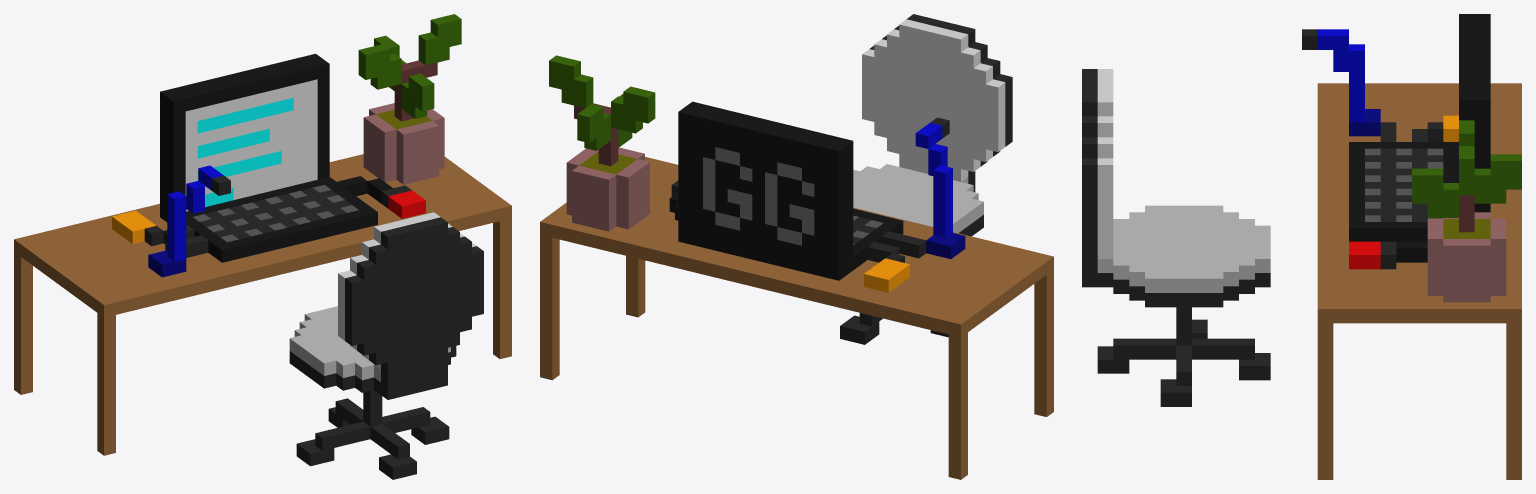
The picture shows the model from 3 angles, left to right: view 1: azimuth 30°, elevation 25°; view 2: azimuth 150°, elevation 25°; view 3: azimuth 270°, elevation 25°; orthographic projection. The views are drawn at different scales.
Parts seen in each view (by area): view 1: untitled.002; view 2: untitled.002; view 3: untitled.002.
Boxes of the visible parts, x1,y1,x2,y2 form: untitled.002: (14, 14, 511, 479); untitled.002: (540, 14, 1053, 479); untitled.002: (1082, 14, 1521, 479).
Bounding box in the file's own units: 3.5 × 2.3 × 2.8.
Materials: 1 (1 with a texture image).
